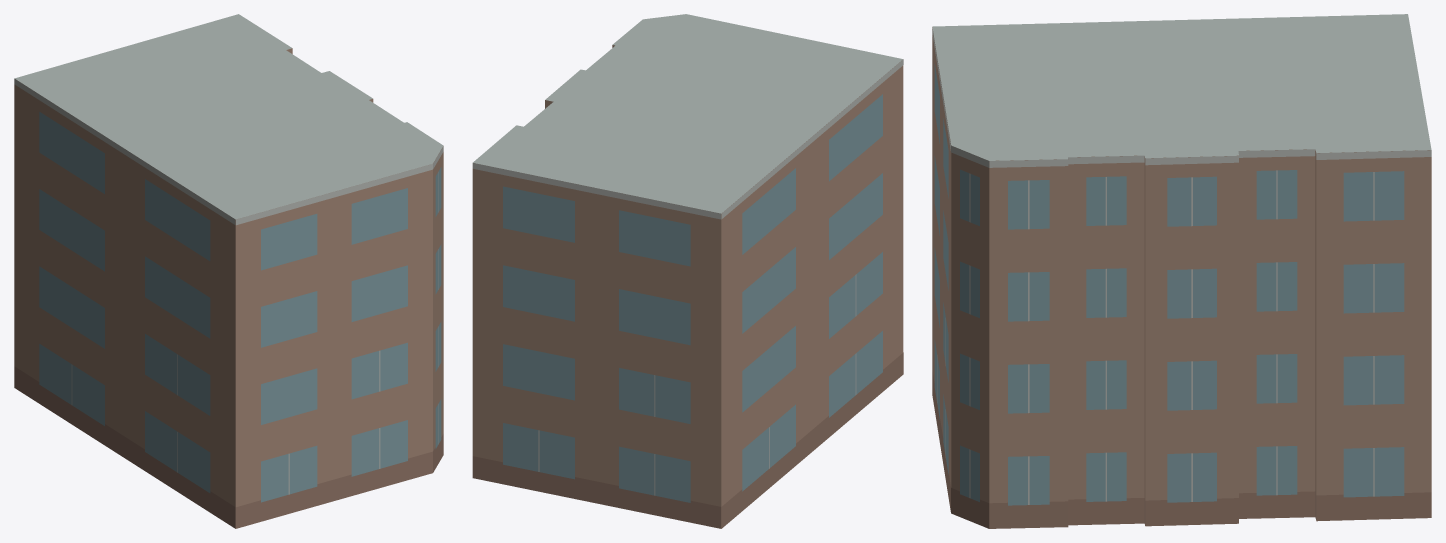
The model's file is survey-upis-32727592.glb.
3 views of the same model, side by side, from view 1: azimuth 30°, elevation 25°; view 2: azimuth 150°, elevation 25°; view 3: azimuth 270°, elevation 25° (orthographic). The views are drawn at different scales.
Visible parts, largest first — view 1: survey-upis-32727592.tmp; view 2: survey-upis-32727592.tmp; view 3: survey-upis-32727592.tmp.
Boxes of the visible parts, <box> form: survey-upis-32727592.tmp: <box>14,14,443,528</box>; survey-upis-32727592.tmp: <box>472,14,903,528</box>; survey-upis-32727592.tmp: <box>932,14,1431,528</box>.
Size of the model in its own units: 11.06 by 12.9 by 15.87.
